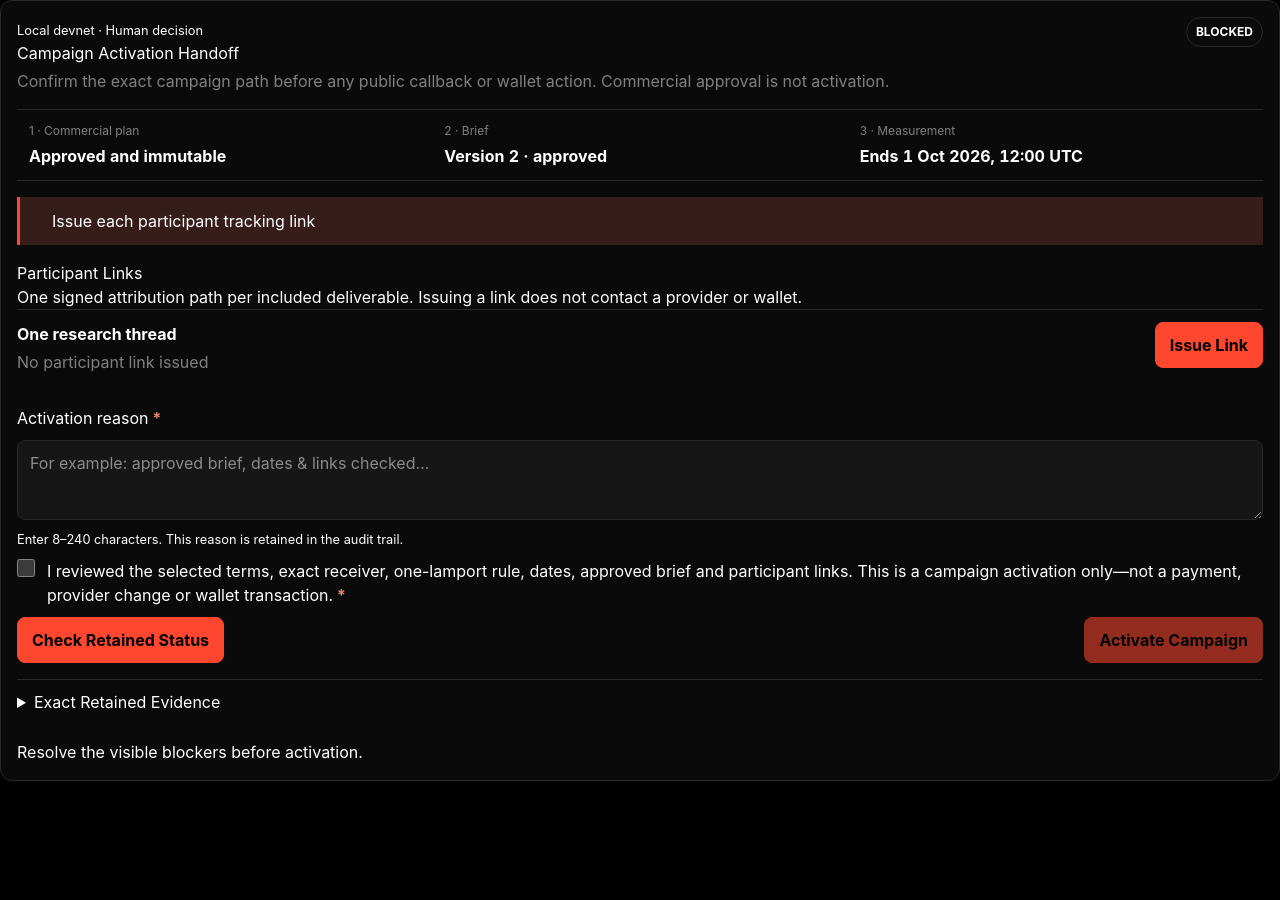
it: shows the exact human blockers and issues a server-derived participant link
Check: the list item "Issue each participant tracking link" is shown, box [52, 211, 315, 231]
Click the button with aria-label "Issue link for".
click(1209, 345)  # box [1155, 322, 1263, 368]
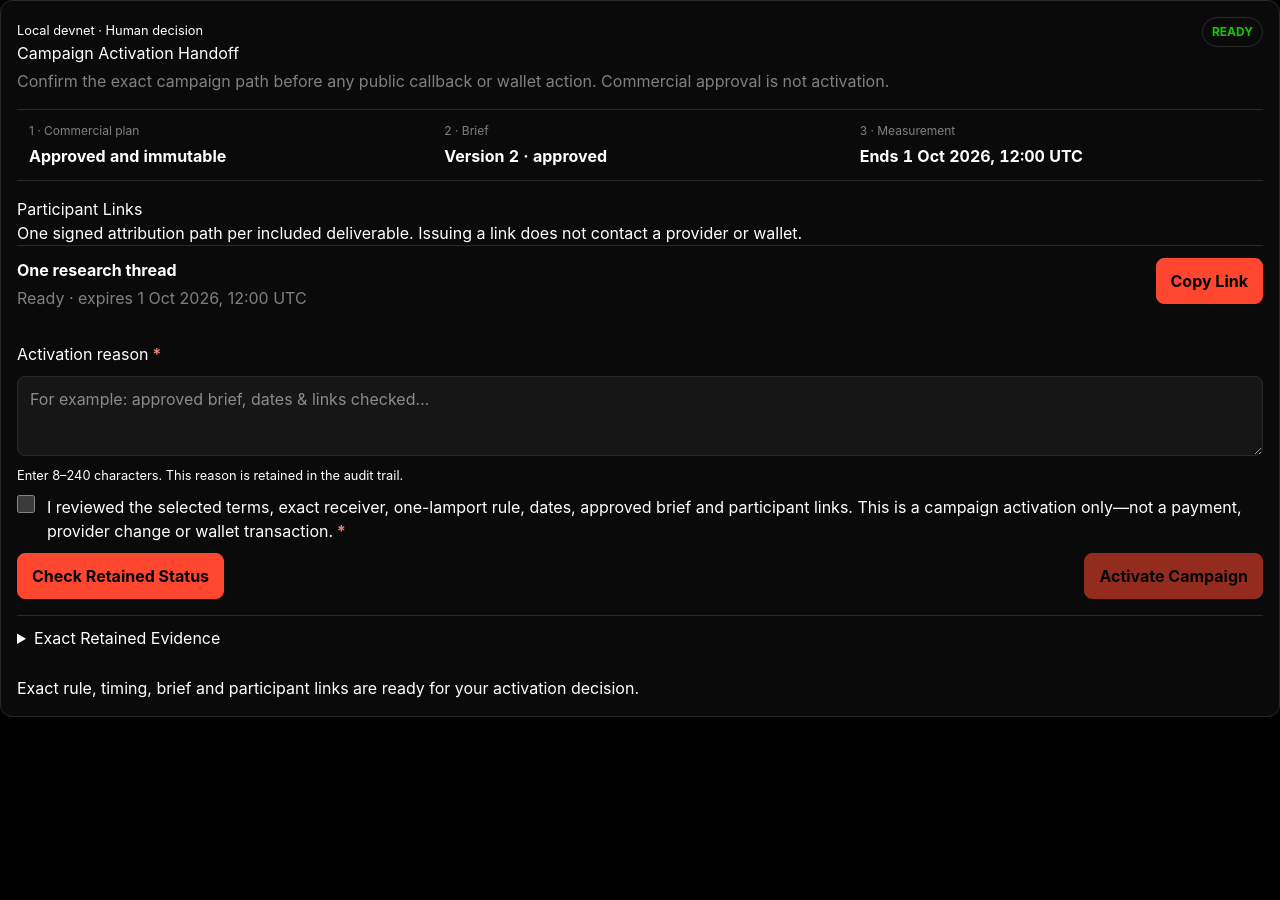
Check: the text "Exact rule, timing, brief and participant links" is shown, box [17, 678, 639, 698]
